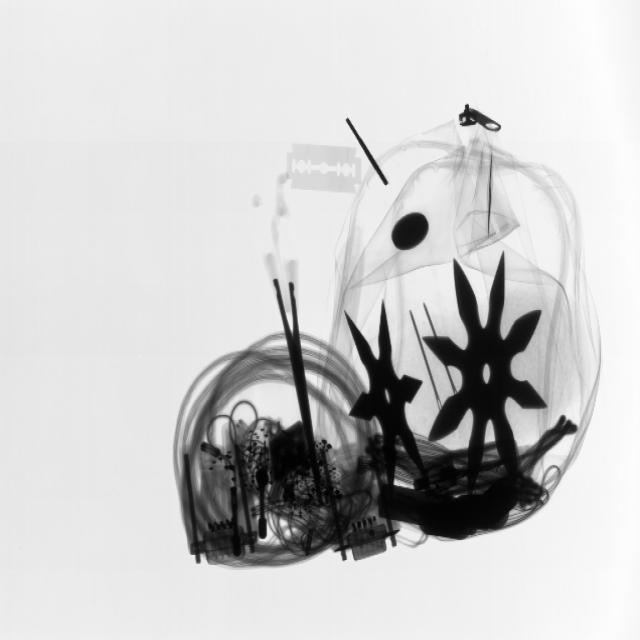BLADE: (277, 131, 372, 206)
SHURIKEN: (422, 255, 550, 488), (342, 295, 430, 490)
